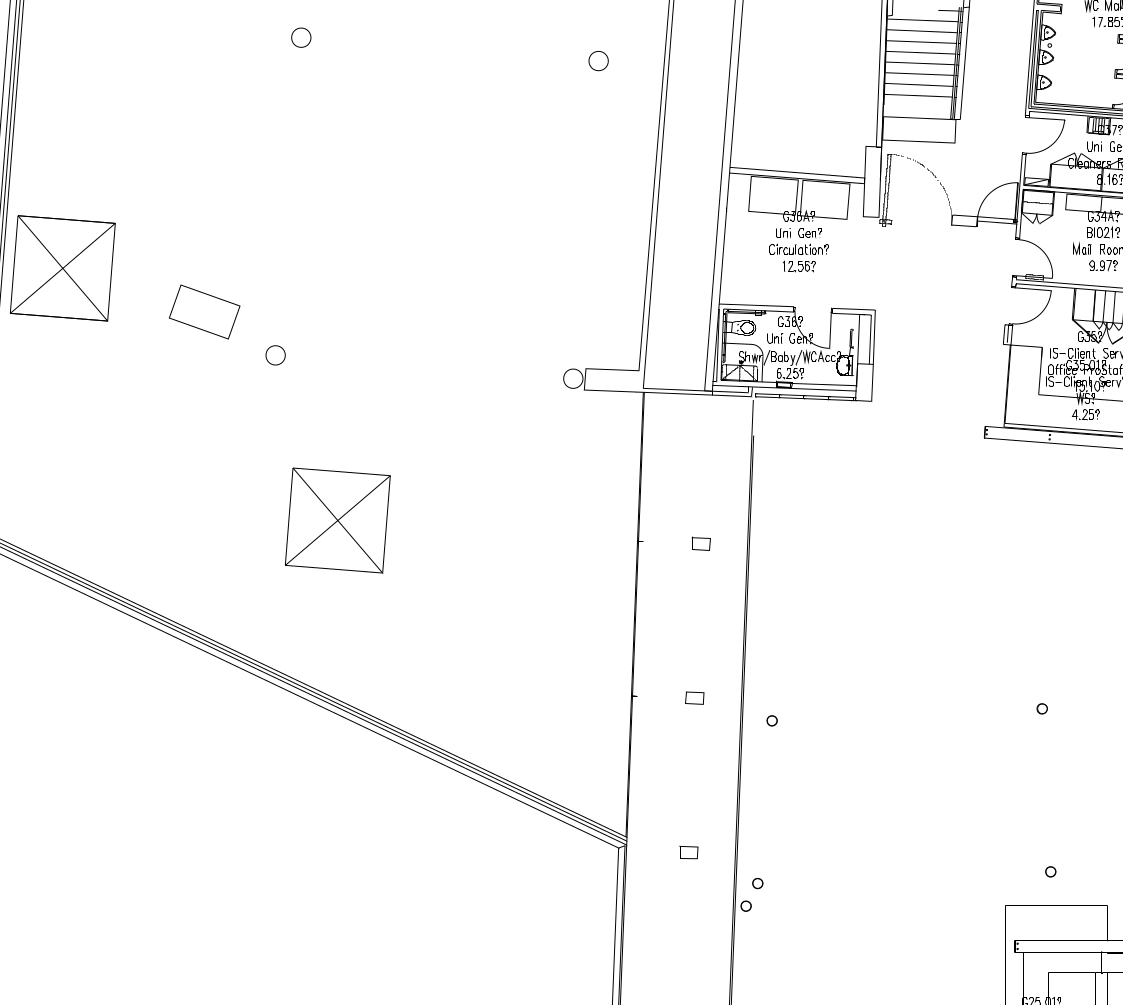door: (884, 147, 957, 224), (970, 171, 1022, 232), (1012, 113, 1068, 164), (1001, 232, 1057, 283), (999, 286, 1055, 337)
